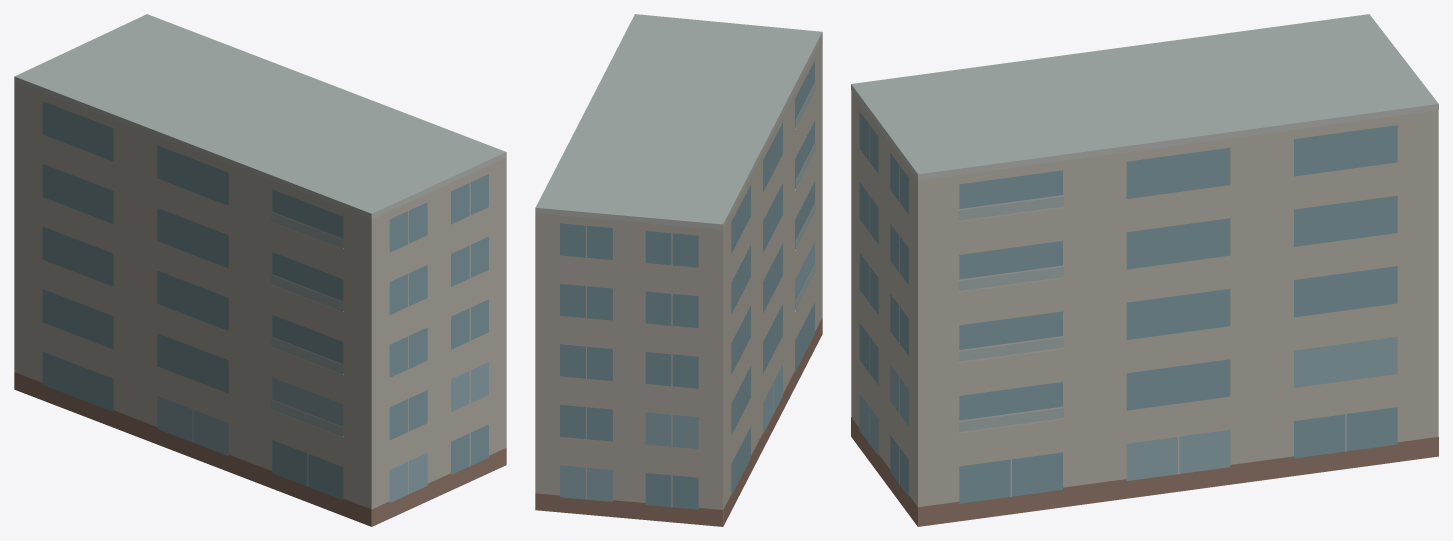
Rendered from survey-upis-32927163.glb.
3 views of the same model, side by side, from view 1: azimuth 30°, elevation 25°; view 2: azimuth 150°, elevation 25°; view 3: azimuth 270°, elevation 25° (orthographic). The views are drawn at different scales.
Parts seen in each view (by area): view 1: survey-upis-32927163.tmp; view 2: survey-upis-32927163.tmp; view 3: survey-upis-32927163.tmp.
Part boxes in pixels (x1,y1,x2,y2): survey-upis-32927163.tmp: (14,14,506,526); survey-upis-32927163.tmp: (535,14,822,526); survey-upis-32927163.tmp: (851,14,1438,526).
Size of the model in its own units: 13.56 by 13.9 by 21.01.
